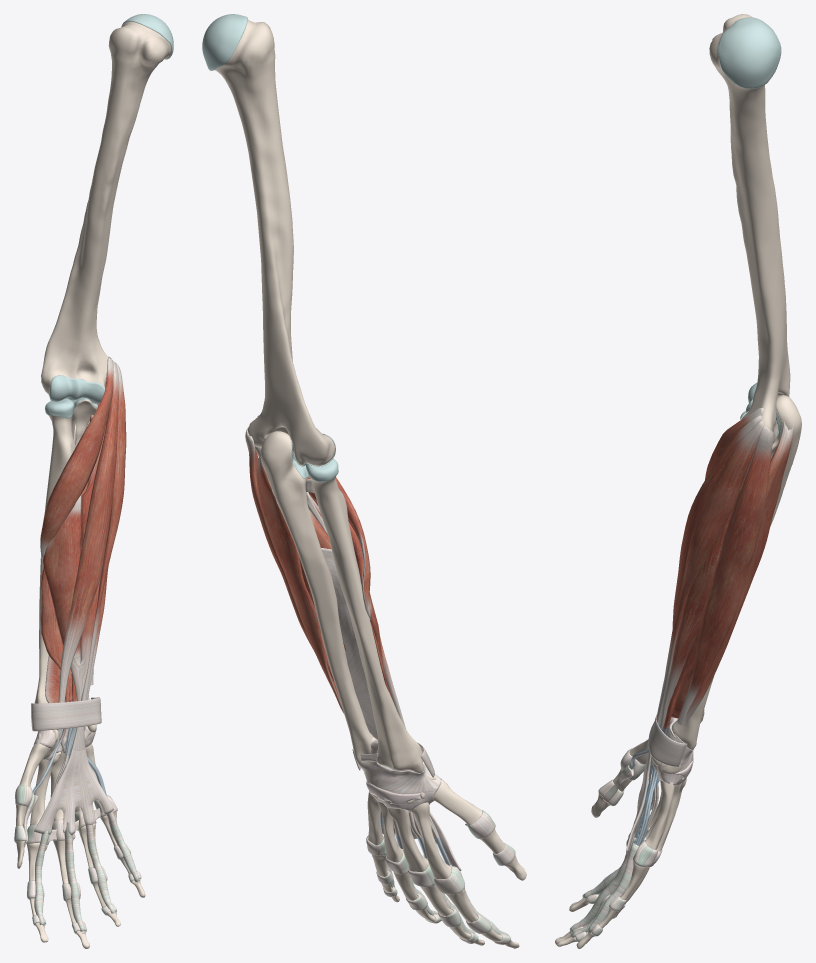
The model's file is open3dmodel-upper-limb-forearm-anterior-compartment-muscles.glb.
3 renders of one model, left to right at view 1: azimuth 30°, elevation 25°; view 2: azimuth 150°, elevation 25°; view 3: azimuth 270°, elevation 25°, orthographic. The views are drawn at different scales.
Visible parts, largest first — view 1: Humerus.r, Flexor carpi radialis.r, Pronator teres humeral head.r, Aponeurosis palmaris.r, Flexor digitorum superficialis radial head.r, Fibrous sheath of digits of hand, Palmaris longus.r, Flexor digitorum superficialis humero-ulnar head.r, Radius.r, Thickened part of antebrachial fascia, Flexor pollicis longus.r, Art cart of humerus distal end.r (+12 smaller); view 2: Humerus.r, Ulna.r, Radius.r, Flexor carpi ulnaris ulnar head.r, Articular capsule of radiocarpal joint, Interosseous membrane of forearm.r, Articular capsules of metacarpophalangeal joints, Art cart of humerus head.r, Flexor carpi ulnaris humeral head.r, 2nd metacarpal bone.r, Flexor digitorum profundus.r, 3rd metacarpal bone.r (+5 smaller); view 3: Humerus.r, Flexor carpi ulnaris humeral head.r, Palmaris longus.r, Art cart of humerus head.r, Flexor digitorum superficialis humero-ulnar head.r, Flexor carpi ulnaris ulnar head.r, Ulna.r, Flexor carpi radialis.r, Fibrous sheath of digits of hand, Flexor digitorum profundus.r, Thickened part of antebrachial fascia, 5th metacarpal bone.r (+6 smaller).
Boxes of the visible parts, x1=… form: Humerus.r: x1=41, y1=21, x2=171, y2=396; Flexor carpi radialis.r: x1=46, y1=361, x2=119, y2=760; Pronator teres humeral head.r: x1=40, y1=357, x2=113, y2=559; Aponeurosis palmaris.r: x1=33, y1=748, x2=113, y2=835; Flexor digitorum superficialis radial head.r: x1=43, y1=495, x2=81, y2=657; Fibrous sheath of digits of hand: x1=34, y1=811, x2=139, y2=931; Palmaris longus.r: x1=71, y1=363, x2=126, y2=750; Flexor digitorum superficialis humero-ulnar head.r: x1=57, y1=425, x2=108, y2=794; Radius.r: x1=34, y1=415, x2=75, y2=703; Thickened part of antebrachial fascia: x1=31, y1=697, x2=101, y2=731; Flexor pollicis longus.r: x1=24, y1=567, x2=69, y2=846; Art cart of humerus distal end.r: x1=49, y1=375, x2=104, y2=404; Humerus.r: x1=214, y1=19, x2=334, y2=465; Ulna.r: x1=260, y1=431, x2=373, y2=763; Radius.r: x1=311, y1=476, x2=423, y2=772; Flexor carpi ulnaris ulnar head.r: x1=256, y1=451, x2=344, y2=714; Articular capsule of radiocarpal joint: x1=357, y1=737, x2=441, y2=812; Interosseous membrane of forearm.r: x1=321, y1=548, x2=377, y2=739; Articular capsules of metacarpophalangeal joints: x1=366, y1=810, x2=495, y2=894; Art cart of humerus head.r: x1=202, y1=14, x2=247, y2=70; Flexor carpi ulnaris humeral head.r: x1=245, y1=425, x2=333, y2=680; 2nd metacarpal bone.r: x1=411, y1=802, x2=451, y2=878; Flexor digitorum profundus.r: x1=299, y1=510, x2=450, y2=865; 3rd metacarpal bone.r: x1=388, y1=808, x2=429, y2=871; Humerus.r: x1=709, y1=14, x2=790, y2=442; Flexor carpi ulnaris humeral head.r: x1=677, y1=426, x2=773, y2=724; Palmaris longus.r: x1=646, y1=420, x2=764, y2=770; Art cart of humerus head.r: x1=718, y1=17, x2=781, y2=88; Flexor digitorum superficialis humero-ulnar head.r: x1=635, y1=451, x2=754, y2=844; Flexor carpi ulnaris ulnar head.r: x1=679, y1=422, x2=793, y2=725; Ulna.r: x1=671, y1=395, x2=801, y2=749; Flexor carpi radialis.r: x1=672, y1=415, x2=761, y2=627; Fibrous sheath of digits of hand: x1=569, y1=824, x2=641, y2=937; Flexor digitorum profundus.r: x1=569, y1=632, x2=699, y2=933; Thickened part of antebrachial fascia: x1=648, y1=714, x2=687, y2=766; 5th metacarpal bone.r: x1=644, y1=780, x2=674, y2=849.
Bounding box in the file's own units: 0.1909 × 0.7061 × 0.1576.
41 materials, 6 textured.
